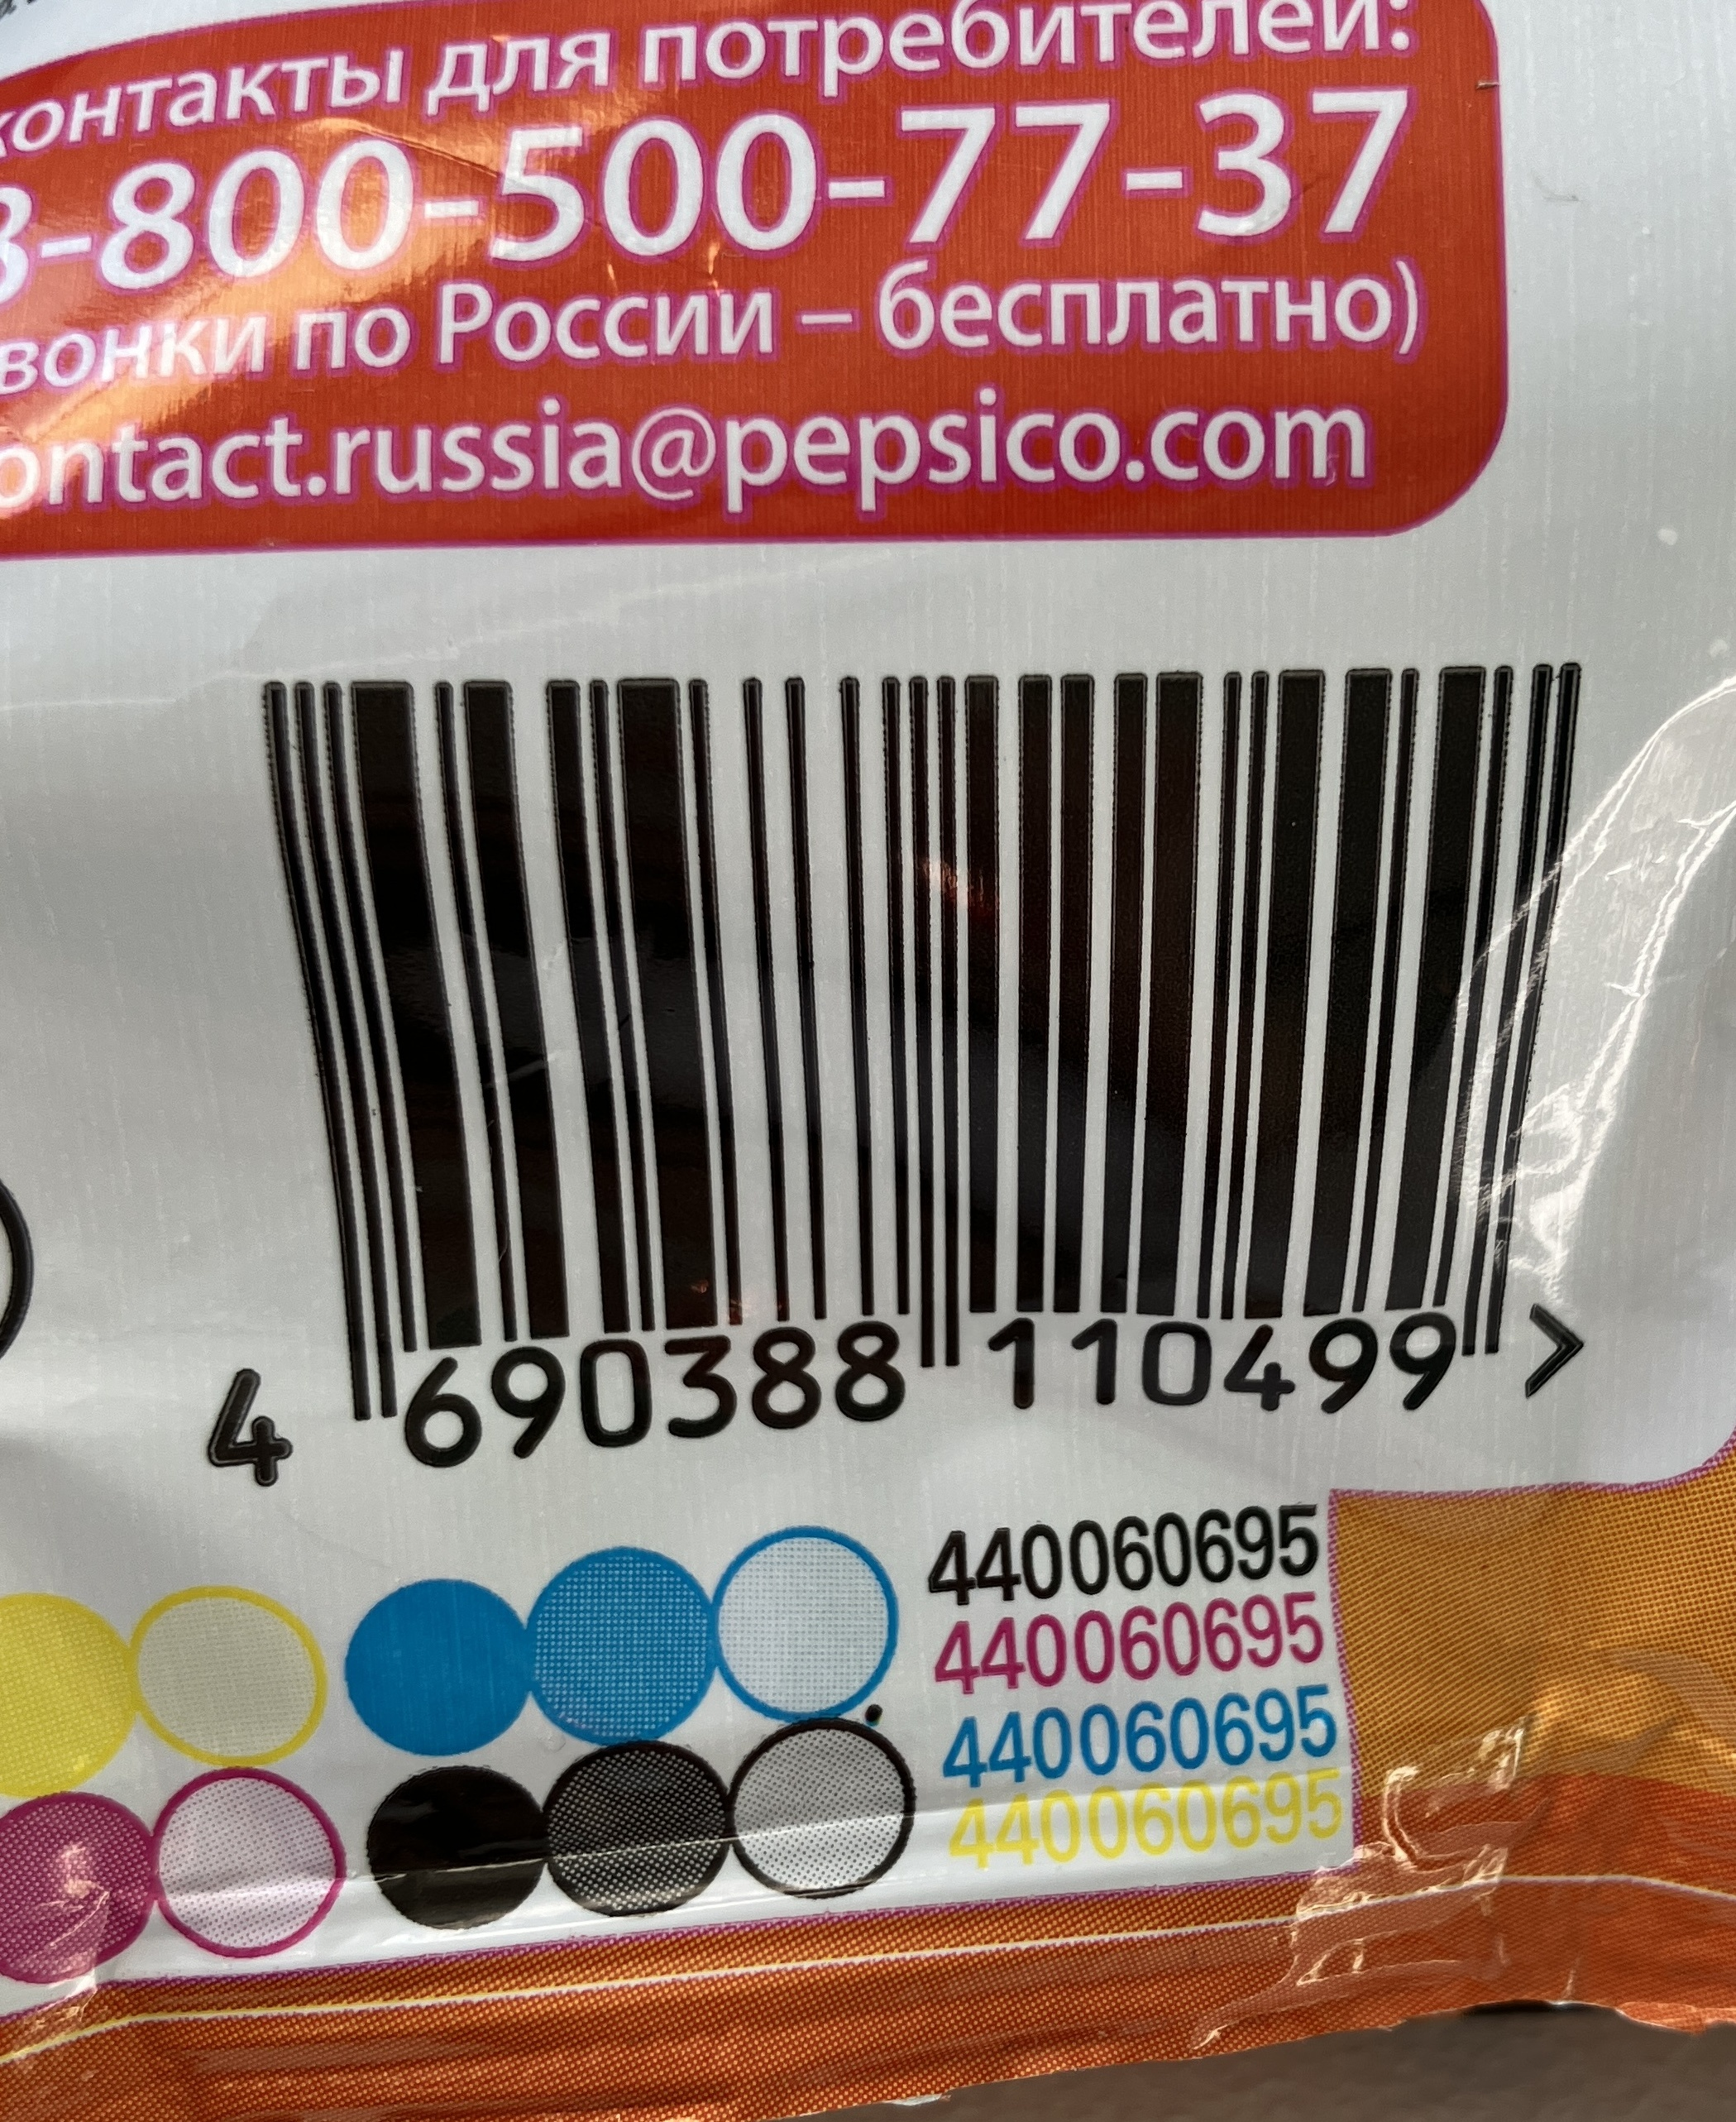1d: (264, 670, 1576, 1422)
